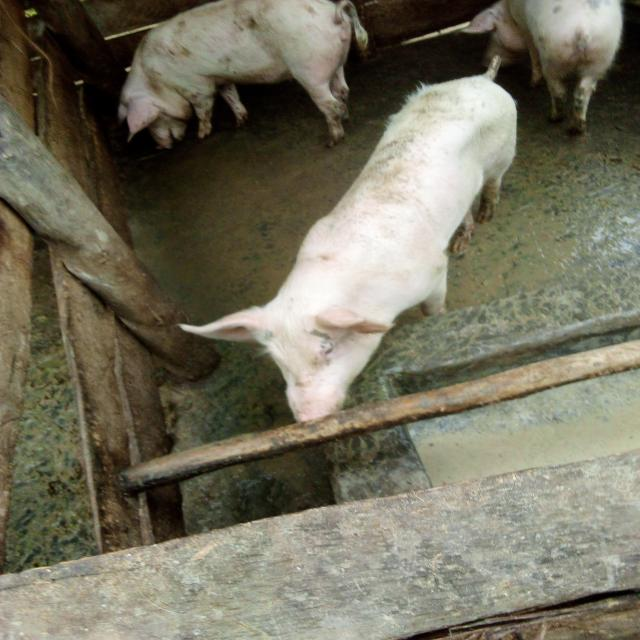pig: (131, 36, 572, 442)
